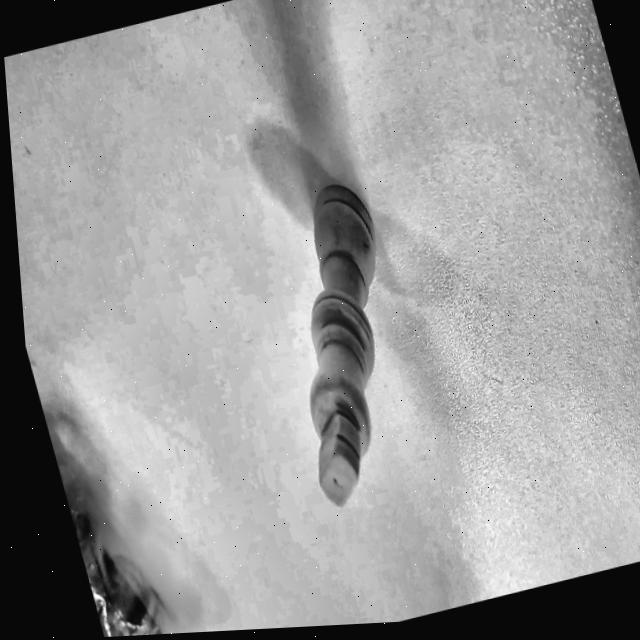white-king: (307, 176, 376, 505)
